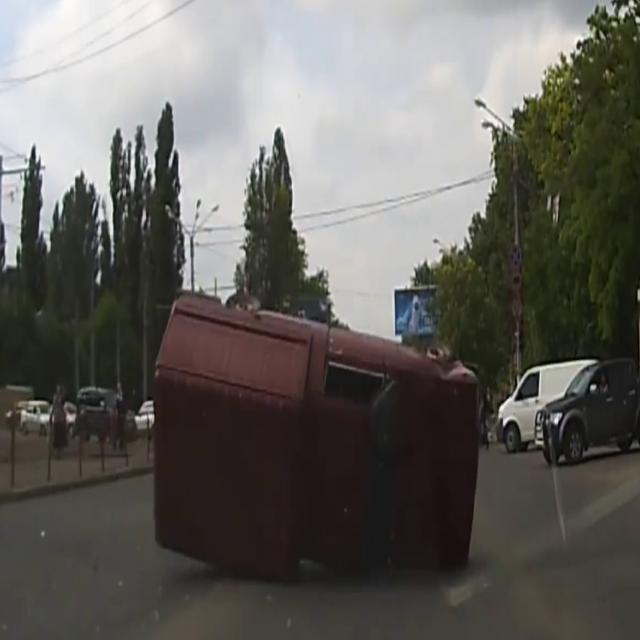accident: (133, 271, 496, 591)
